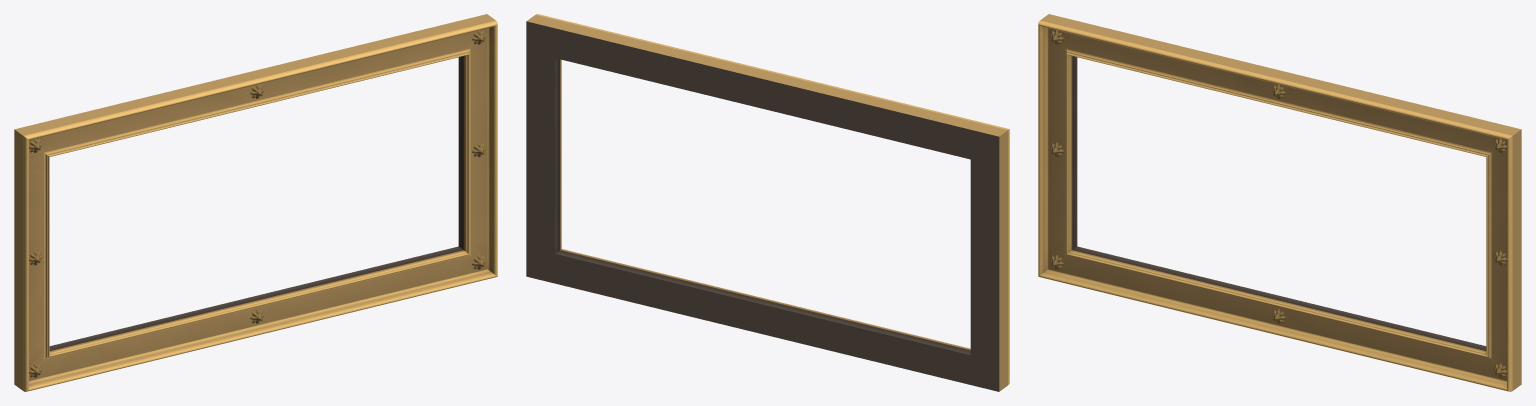
The model's file is 02-sotvorenie-adama.glb.
The picture shows the model from 3 angles, left to right: view 1: azimuth 30°, elevation 25°; view 2: azimuth 150°, elevation 25°; view 3: azimuth 330°, elevation 25°; orthographic projection.
Visible parts, largest first — view 1: Frame; view 2: Frame; view 3: Frame.
Boxes of the visible parts, box(x1,y1,x2,y2) form: Frame: box(14, 14, 497, 391); Frame: box(526, 14, 1009, 391); Frame: box(1038, 14, 1521, 391).
Size of the model in its own units: 2.49 by 1.28 by 0.1051.
